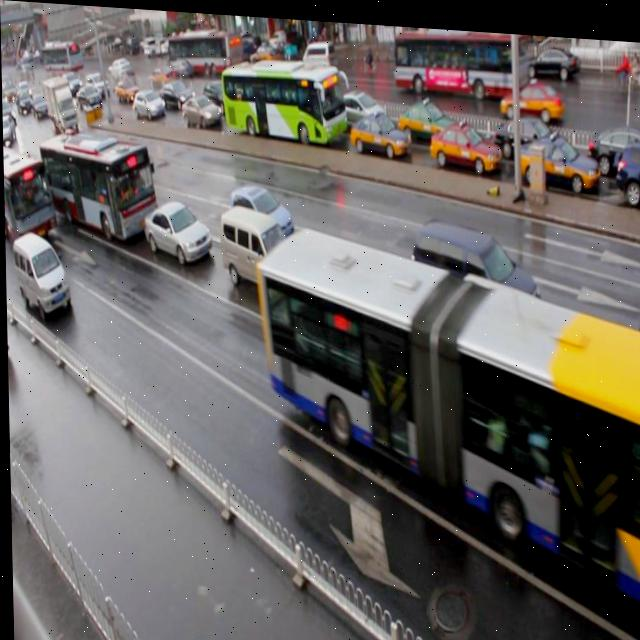car: (304, 245, 410, 344), (518, 127, 599, 191), (142, 194, 211, 263), (228, 178, 294, 247), (429, 114, 502, 170), (491, 105, 564, 158), (396, 92, 463, 143), (348, 106, 409, 155), (332, 80, 386, 129), (587, 119, 640, 168), (616, 364, 640, 470), (23, 160, 64, 208), (614, 131, 640, 195), (66, 133, 99, 175), (180, 91, 221, 123), (132, 86, 166, 120), (202, 77, 235, 110), (160, 78, 195, 108), (115, 72, 140, 102)
truck: (444, 264, 576, 421), (410, 210, 541, 333), (217, 198, 295, 298), (13, 229, 69, 322)
van: (255, 218, 640, 605), (39, 129, 157, 243), (217, 52, 342, 142), (2, 143, 58, 250)
